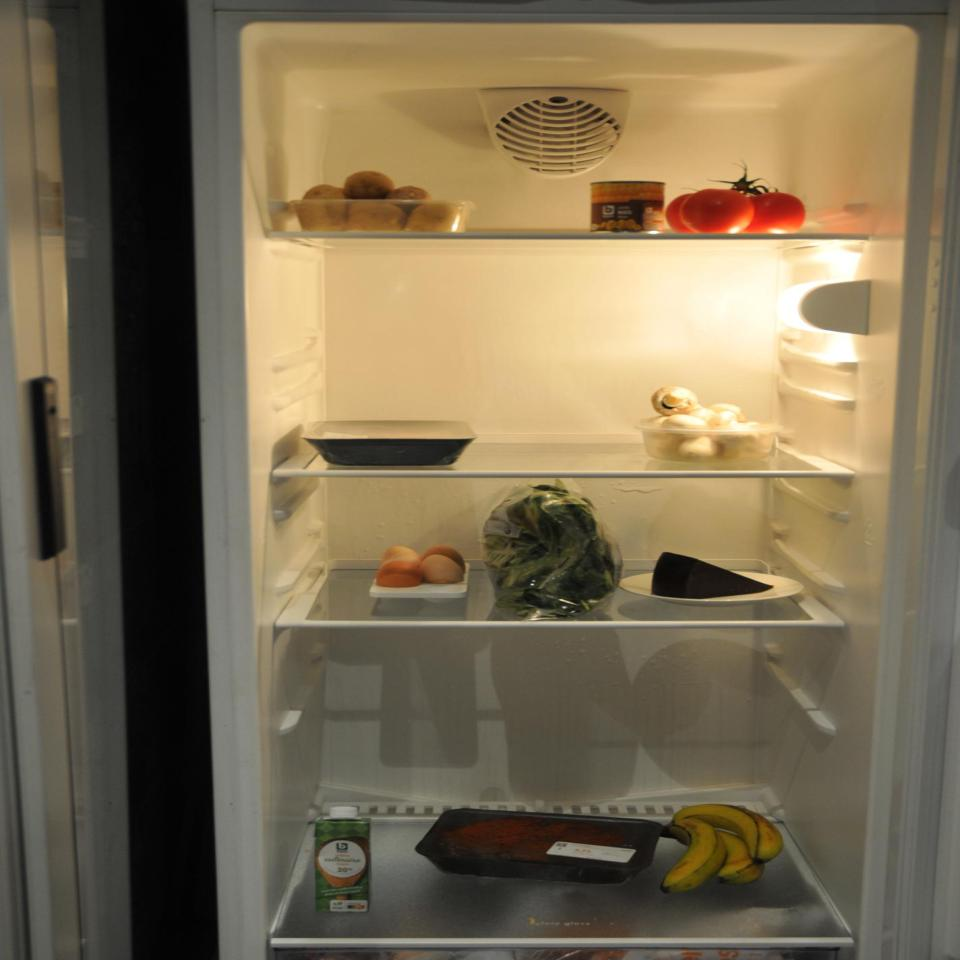Huevos: (373, 543, 472, 594)
Plátano: (661, 803, 789, 897)
Queso: (648, 554, 784, 594)
Tomate: (664, 185, 813, 236)
